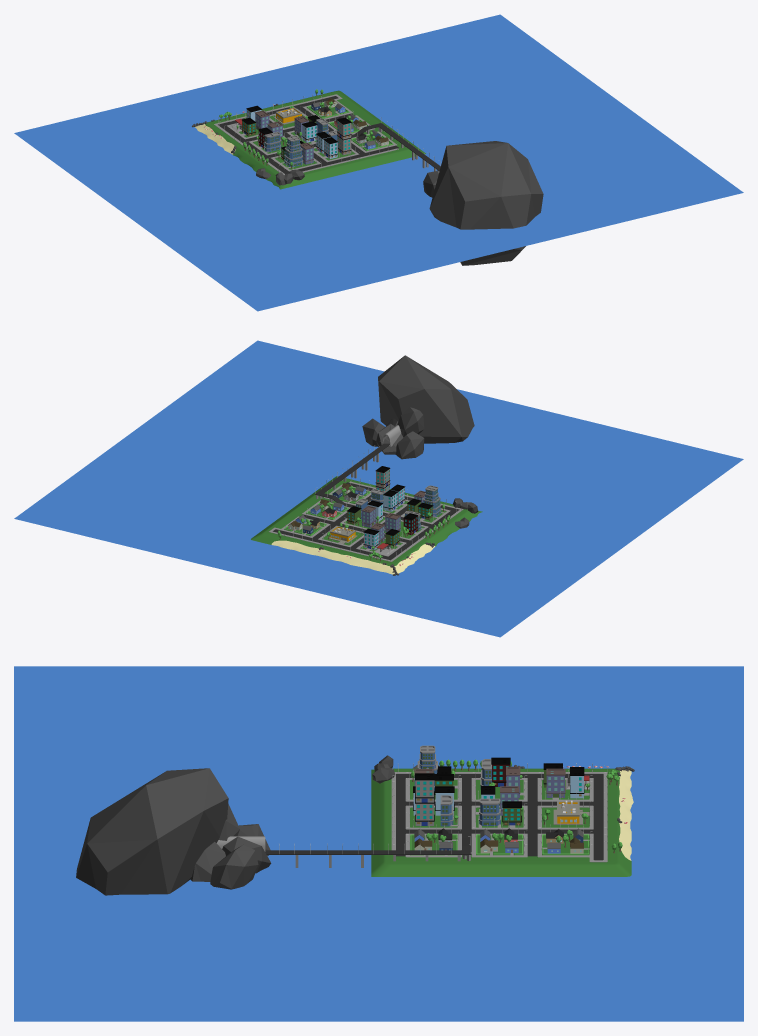
Rendered from CityOnemesh2.fbx.
The picture shows the model from 3 angles, top to bottom: view 1: azimuth 30°, elevation 25°; view 2: azimuth 150°, elevation 25°; view 3: azimuth 270°, elevation 25°; orthographic projection. The views are drawn at different scales.
Parts seen in each view (by area): view 1: CityBlock032; view 2: CityBlock032; view 3: CityBlock032.
Part boxes in pixels (x1,y1,x2,y2): CityBlock032: (14,14,743,311); CityBlock032: (14,340,743,637); CityBlock032: (14,666,743,1021).
Size of the model in its own units: 59989 by 13289 by 52044.
